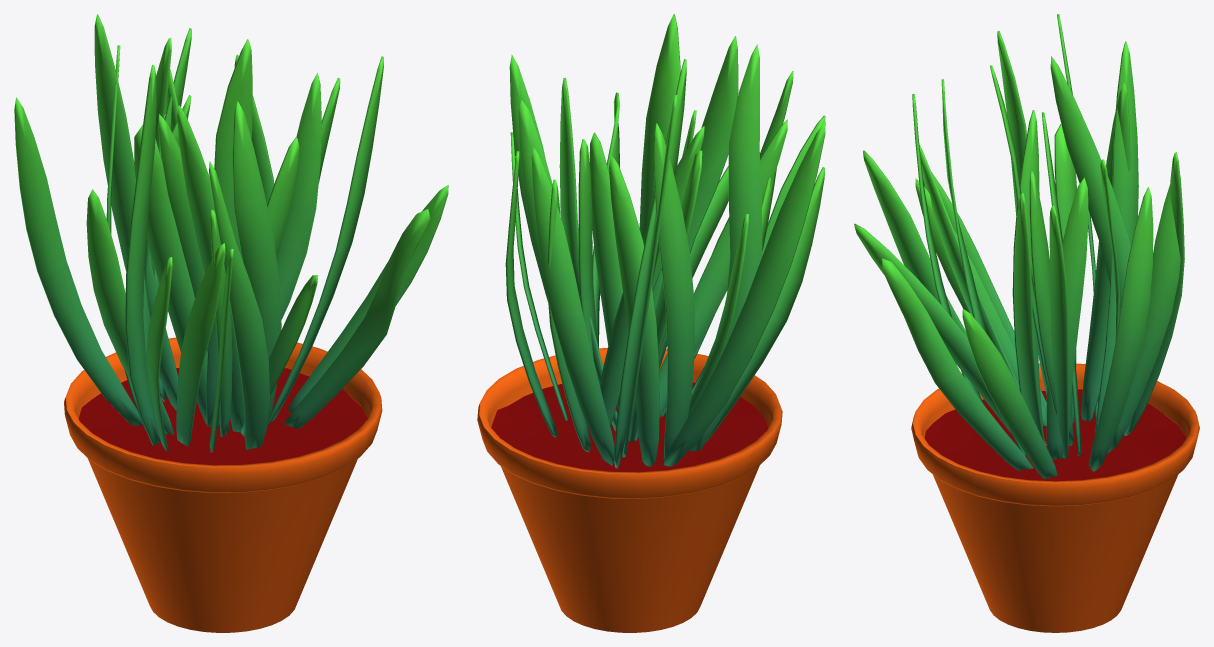
Rendered from Plant.fbx.
The picture shows the model from 3 angles, left to right: view 1: azimuth 30°, elevation 25°; view 2: azimuth 150°, elevation 25°; view 3: azimuth 270°, elevation 25°; orthographic projection. The views are drawn at different scales.
Parts seen in each view (by area): view 1: plant; view 2: plant; view 3: plant.
Part boxes in pixels (box(x1,y1,x2,y2)): plant: box(14, 14, 448, 632); plant: box(477, 14, 825, 632); plant: box(854, 14, 1199, 632).
Bounding box in the file's own units: 314 × 466 × 273.
